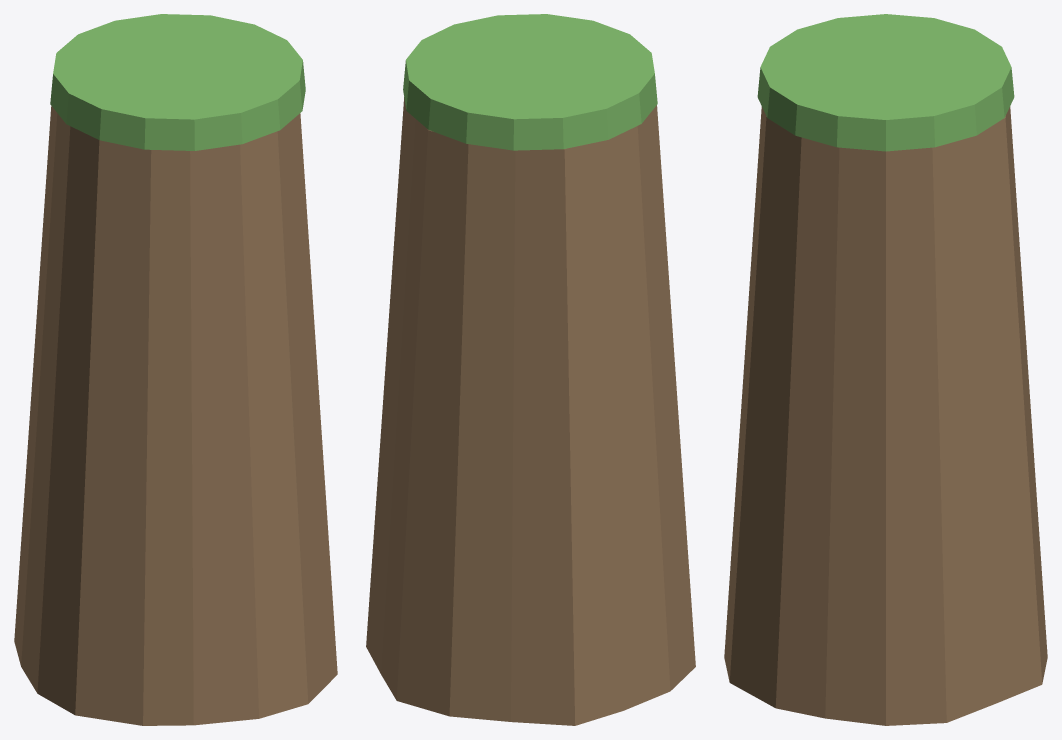
The model's file is SeedNestPedestal.fbx.
The picture shows the model from 3 angles, left to right: view 1: azimuth 30°, elevation 25°; view 2: azimuth 150°, elevation 25°; view 3: azimuth 270°, elevation 25°; orthographic projection.
Visible parts, largest first — view 1: Pedestal_Trunk, Pedestal_MossCap; view 2: Pedestal_Trunk, Pedestal_MossCap; view 3: Pedestal_Trunk, Pedestal_MossCap.
Boxes of the visible parts, x1=… form: Pedestal_Trunk: x1=14, y1=106, x2=337, y2=725; Pedestal_MossCap: x1=50, y1=14, x2=305, y2=150; Pedestal_Trunk: x1=366, y1=97, x2=695, y2=725; Pedestal_MossCap: x1=403, y1=14, x2=657, y2=150; Pedestal_Trunk: x1=724, y1=106, x2=1047, y2=725; Pedestal_MossCap: x1=757, y1=14, x2=1014, y2=151.
Size of the model in its own units: 0.34 by 0.685 by 0.34.
